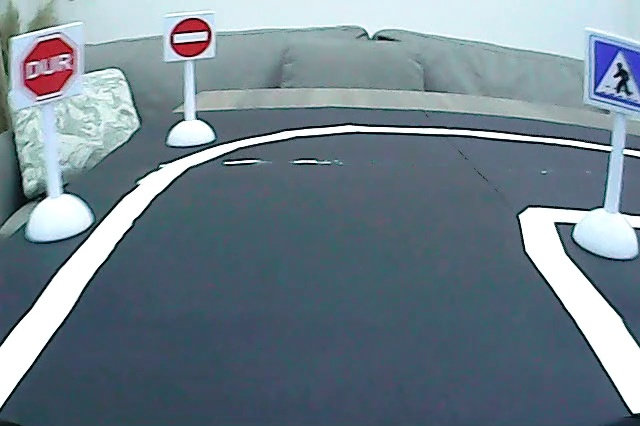do not enter: (168, 14, 215, 60)
pedestrian crossing: (585, 34, 640, 110)
stop sign: (16, 29, 81, 103)
